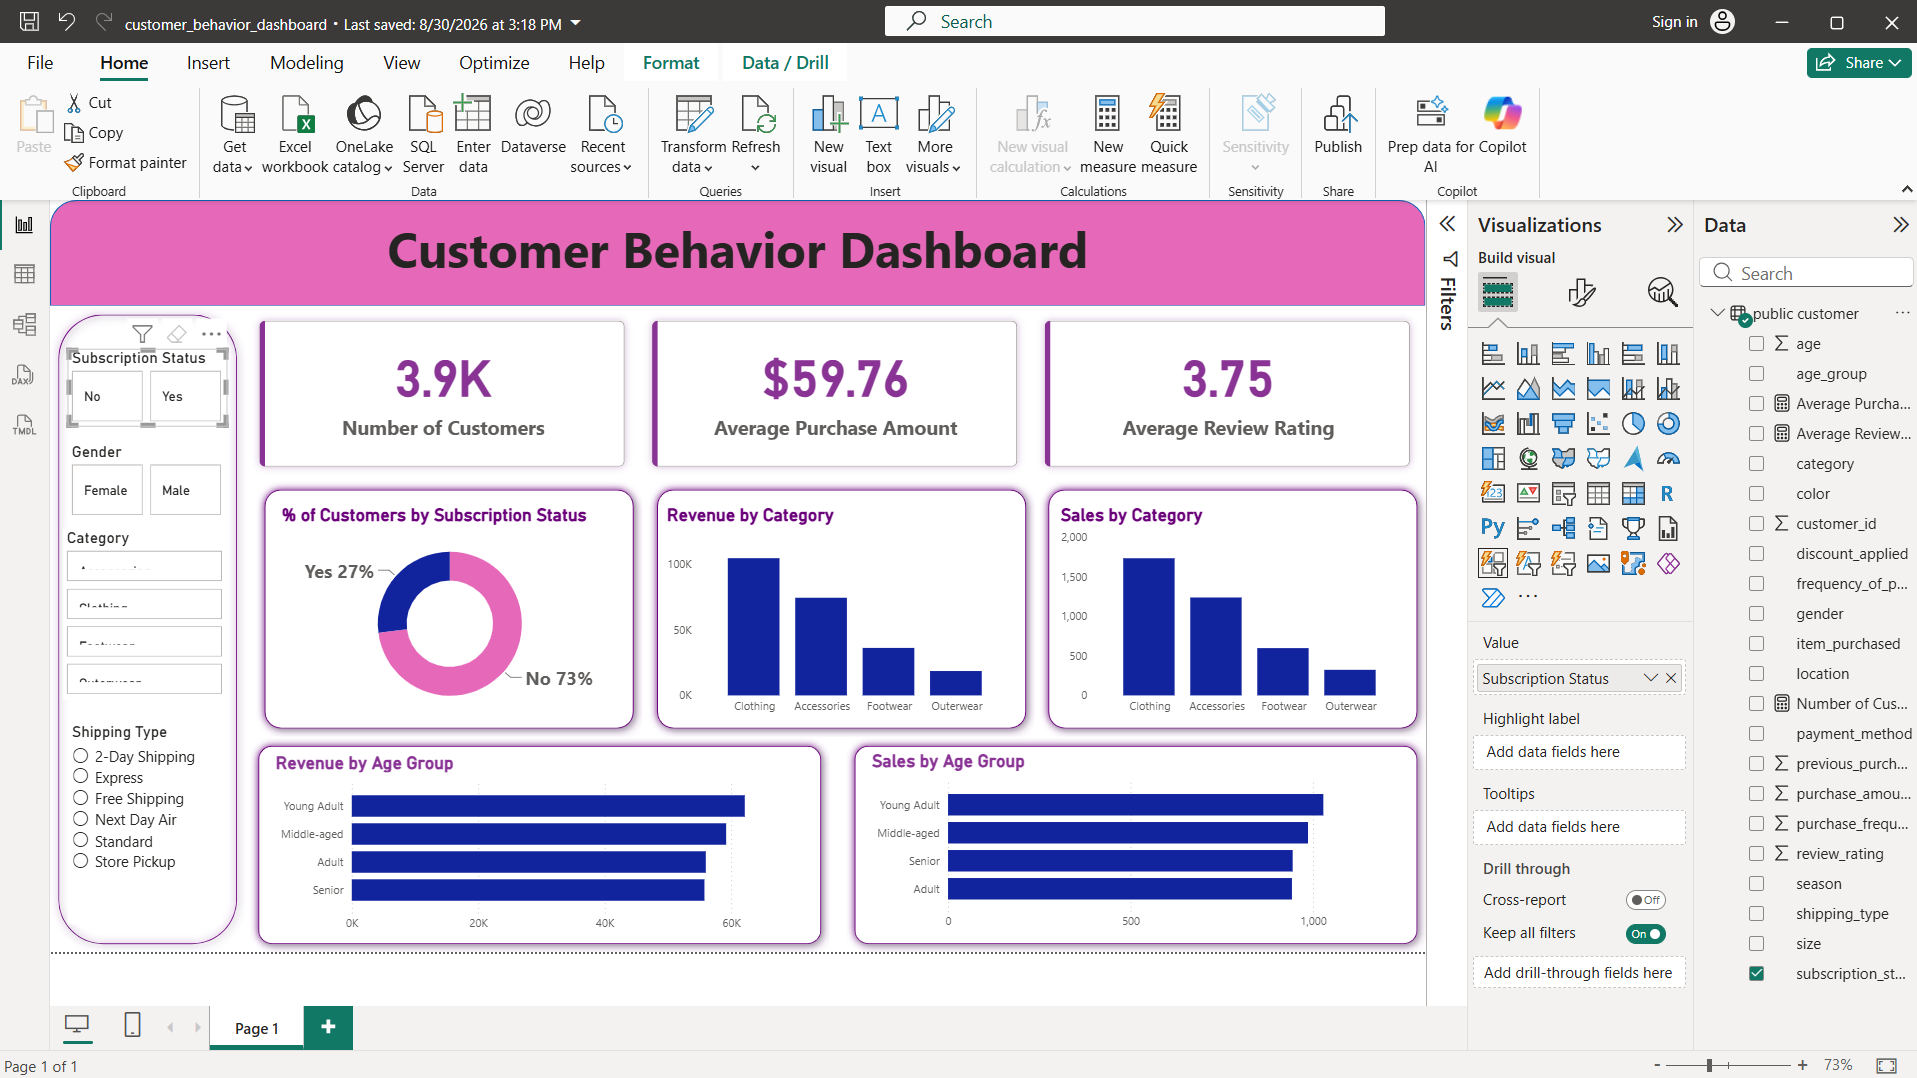

This screenshot's page, from the dashboard's own definition file:
{"tool":"powerbi","page":{"name":"Page 1","canvas":[1500,820],"ordinal":0},"visuals":[{"type":"cardVisual","fields":{"Data":["public customer.Number of Customers","public customer.Average Purchase Amount","public customer.Average Review Rating"]},"box":[212.9,115.3,1286.5,191.6],"z":2000},{"type":"shape","box":[218.3,585.6,631.7,234.2],"z":2500,"group":"g1"},{"type":"shape","box":[0,0,1499.4,115.3],"z":3000},{"type":"textbox","box":[0,12.4,1499.4,102.9],"z":4000},{"type":"shape","box":[225.4,307,420.5,278.6],"z":5000},{"type":"donutChart","title":"% of Customers by Subscription Status","fields":{"Category":["public customer.subscription_status"],"Y":["CountNonNull(public customer.customer_id)"]},"box":[248.4,331.8,376.2,237.8],"z":6000},{"type":"shape","box":[1078.9,307,420.5,278.6],"z":7000},{"type":"shape","box":[652.1,307,420.5,278.6],"z":8000},{"type":"clusteredColumnChart","title":"Revenue by Category","fields":{"Y":["Sum(public customer.purchase_amount)"],"Category":["public customer.category"]},"box":[667.2,331.8,385.1,237.8],"z":9000},{"type":"clusteredColumnChart","title":"Sales by Category","fields":{"Y":["CountNonNull(public customer.customer_id)"],"Category":["public customer.category"]},"box":[1096.6,331.8,385.1,237.8],"z":10000},{"type":"shape","box":[0,115.3,212.9,704.5],"z":11000},{"type":"advancedSlicerVisual","fields":{"Values":["public customer.subscription_status"]},"box":[19.5,161.5,173.9,85.2],"z":12000},{"type":"advancedSlicerVisual","fields":{"Values":["public customer.gender"]},"box":[19.5,264.4,173.9,85.2],"z":13000},{"type":"advancedSlicerVisual","fields":{"Values":["public customer.category"]},"box":[14.2,358.4,179.2,186.3],"z":14000},{"type":"listSlicer","fields":{"Values":["public customer.shipping_type"]},"box":[19.5,569.6,168.6,220],"z":15000},{"type":"shape","box":[867.7,585.6,631.7,234.2],"z":16000},{"type":"clusteredBarChart","title":"Sales by Age Group","fields":{"Y":["CountNonNull(public customer.customer_id)"],"Category":["public customer.age_group"]},"box":[890.8,601.5,585.6,204.1],"z":17000},{"type":"clusteredBarChart","title":"Revenue by Age Group","fields":{"Y":["Sum(public customer.purchase_amount)"],"Category":["public customer.age_group"]},"box":[241.4,601.6,585.6,204.1],"z":17500,"group":"g1"},{"type":"group","id":"g1","title":"Group 1","box":[218.3,585.6,631.7,234.2],"z":17501}]}

Visuals, with their boxes on the page's 1500x820 design canvas (x1, y1, x2, y2). These are canvas units, not pixel positions in the 1917x1078 screenshot, which may show the page scaled, cropped or inside an application window:
cardVisual - public customer.Number of Customers x public customer.Average Purchase Amount: detection(213, 115, 1499, 307)
shape: detection(218, 586, 850, 820)
shape: detection(0, 0, 1499, 115)
textbox: detection(0, 12, 1499, 115)
shape: detection(225, 307, 646, 586)
"% of Customers by Subscription Status" donutChart: detection(248, 332, 625, 570)
shape: detection(1079, 307, 1499, 586)
shape: detection(652, 307, 1073, 586)
"Revenue by Category" clusteredColumnChart: detection(667, 332, 1052, 570)
"Sales by Category" clusteredColumnChart: detection(1097, 332, 1482, 570)
shape: detection(0, 115, 213, 820)
advancedSlicerVisual - public customer.subscription_status: detection(20, 162, 193, 247)
advancedSlicerVisual - public customer.gender: detection(20, 264, 193, 350)
advancedSlicerVisual - public customer.category: detection(14, 358, 193, 545)
listSlicer - public customer.shipping_type: detection(20, 570, 188, 790)
shape: detection(868, 586, 1499, 820)
"Sales by Age Group" clusteredBarChart: detection(891, 602, 1476, 806)
"Revenue by Age Group" clusteredBarChart: detection(241, 602, 827, 806)
"Group 1" group: detection(218, 586, 850, 820)
